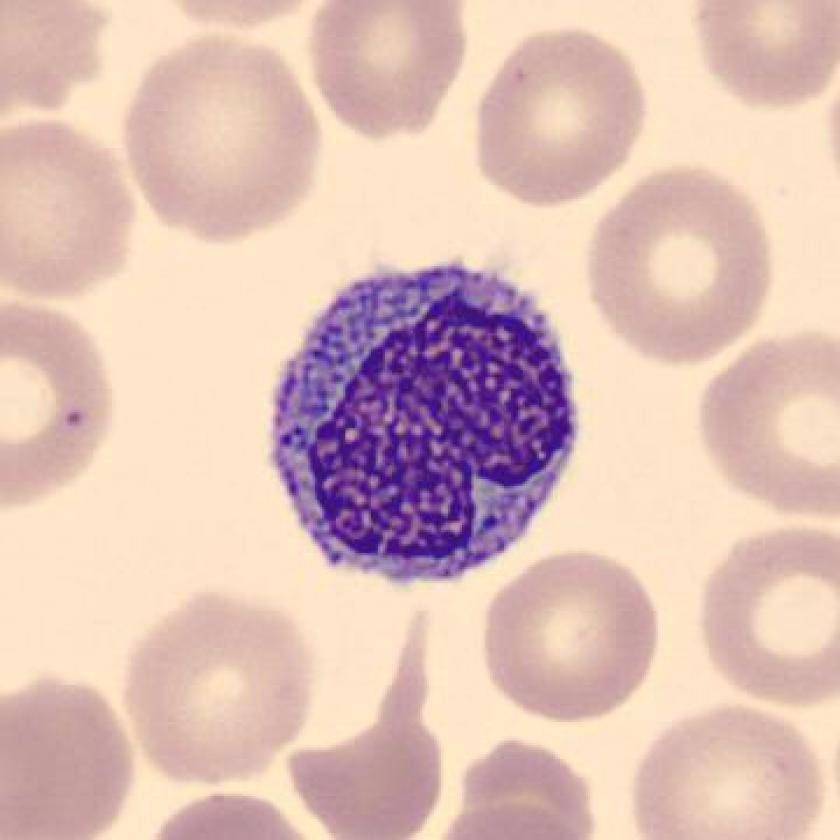monocyte: (246, 244, 598, 600)
